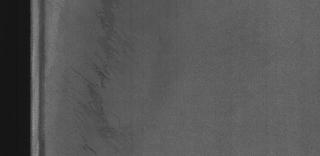water spot: (68, 0, 138, 154)
